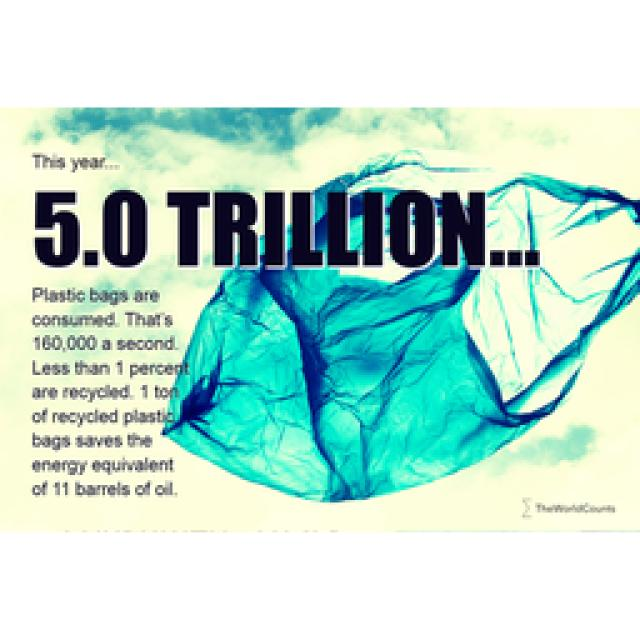plastic: (162, 265, 555, 500)
